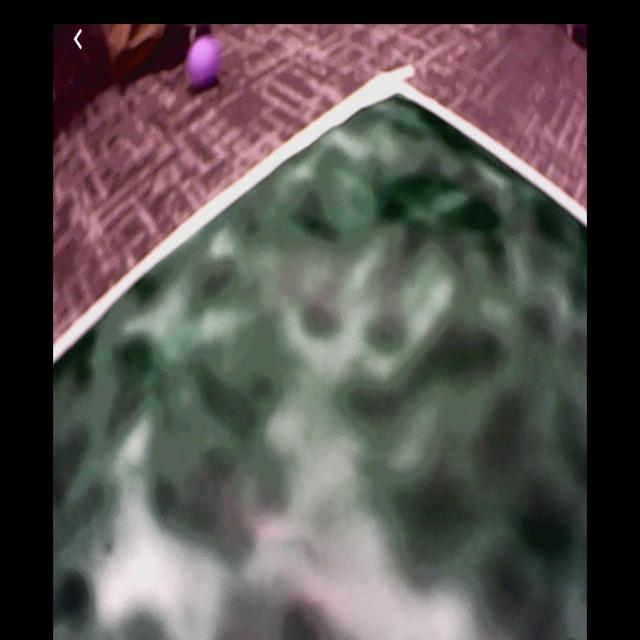ball: (189, 39, 222, 88)
